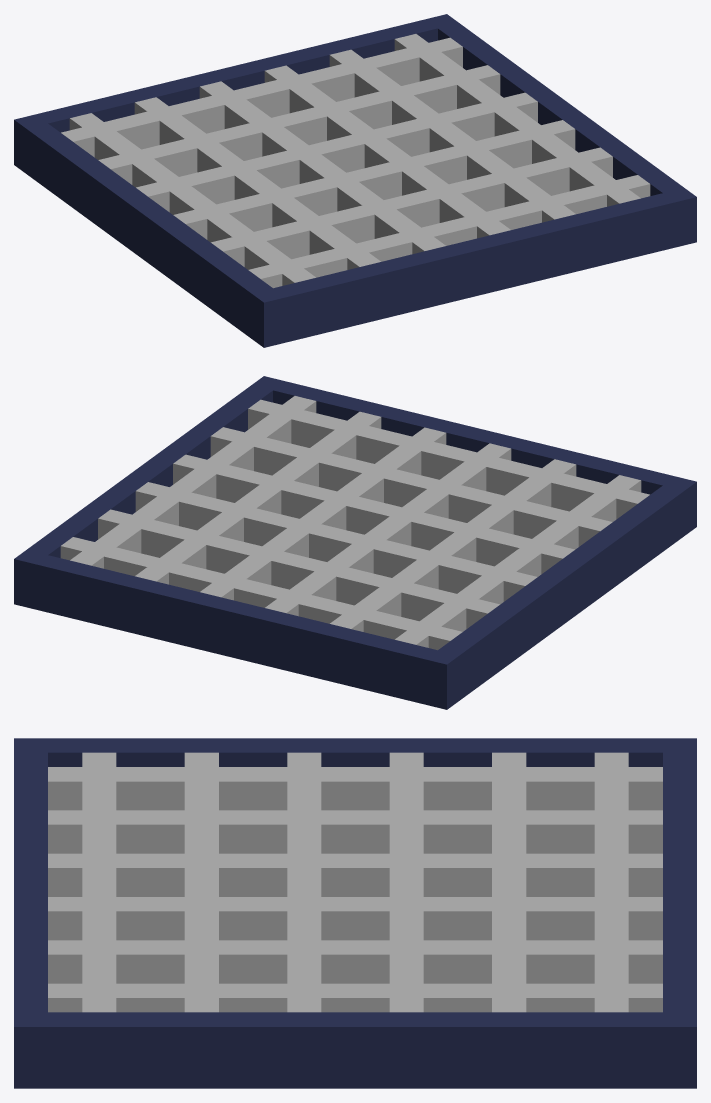
Rendered from Prison tilefbx.fbx.
3 views of the same model, one above another, from view 1: azimuth 30°, elevation 25°; view 2: azimuth 150°, elevation 25°; view 3: azimuth 270°, elevation 25° (orthographic). The views are drawn at different scales.
Parts seen in each view (by area): view 1: obj_0.008; view 2: obj_0.008; view 3: obj_0.008.
Boxes of the visible parts, box(x1,y1,x2,y2) form: obj_0.008: box(14, 14, 696, 347); obj_0.008: box(14, 376, 696, 709); obj_0.008: box(14, 738, 696, 1088).
Size of the model in its own units: 2000 by 200 by 2000.
